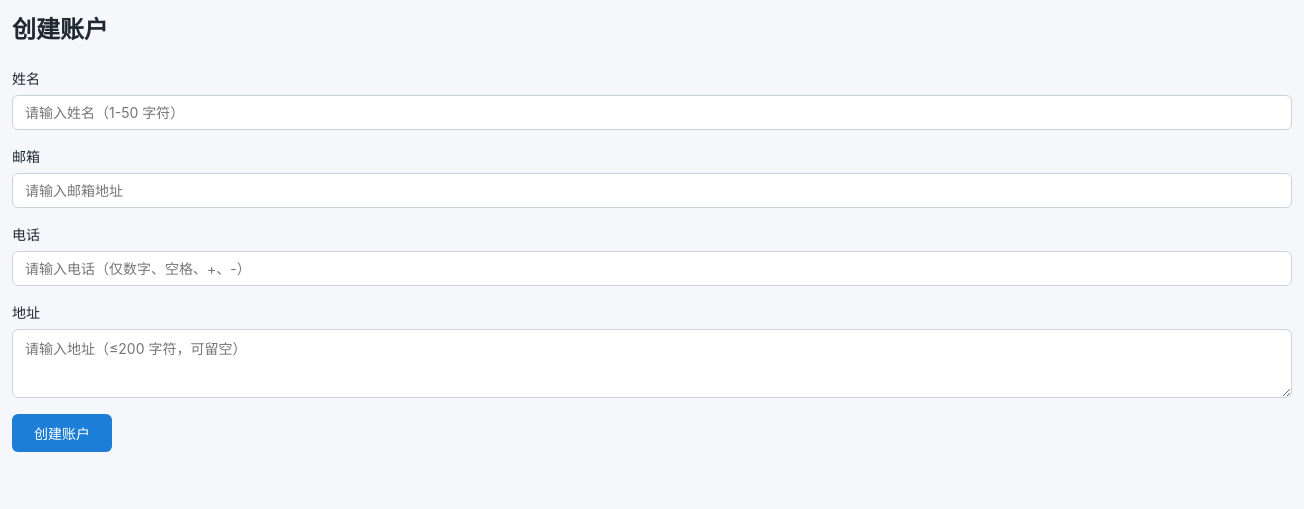
Scenario: CreateAccountForm 创建账户（需求 2.4、2.5、2.10） › 服务端返回 ACCOUNT_LIMIT 时展示上限错误提示（需求 2.5）
The image size is (1304, 509).
Type "赵六" into the field labelled "姓名" at (652, 112), box [12,95,1292,130]
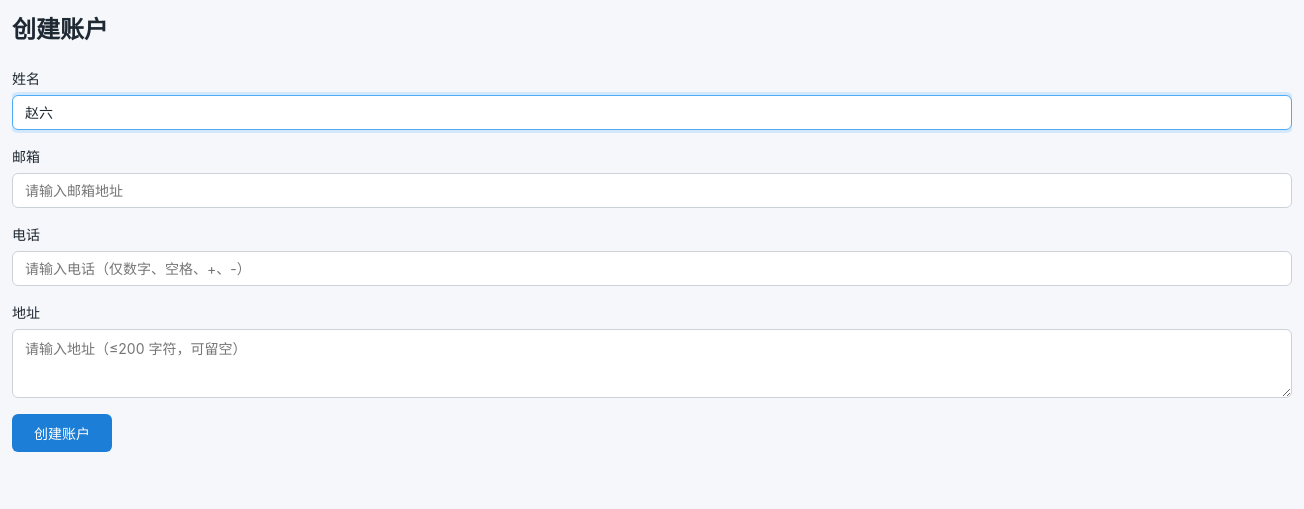
Type "zhaoliu@example.com" into the field labelled "邮箱" at (652, 190), box [12,173,1292,208]
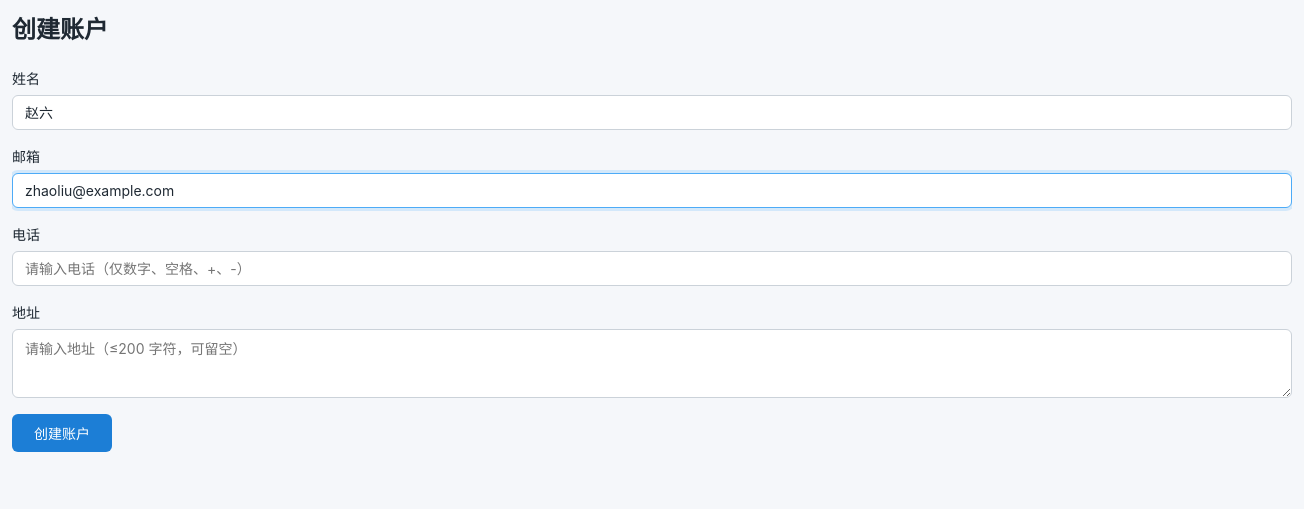
Type "13800138001" into the field labelled "电话" at (652, 268), box [12,251,1292,286]
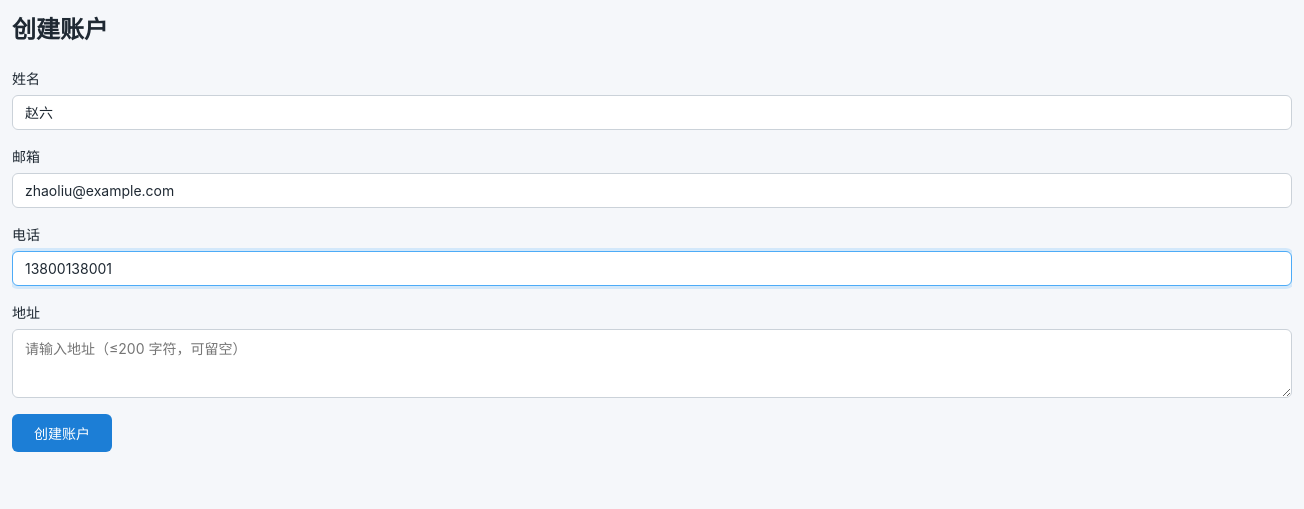
Click the button "创建账户" at (62, 433), box [12,414,112,452]
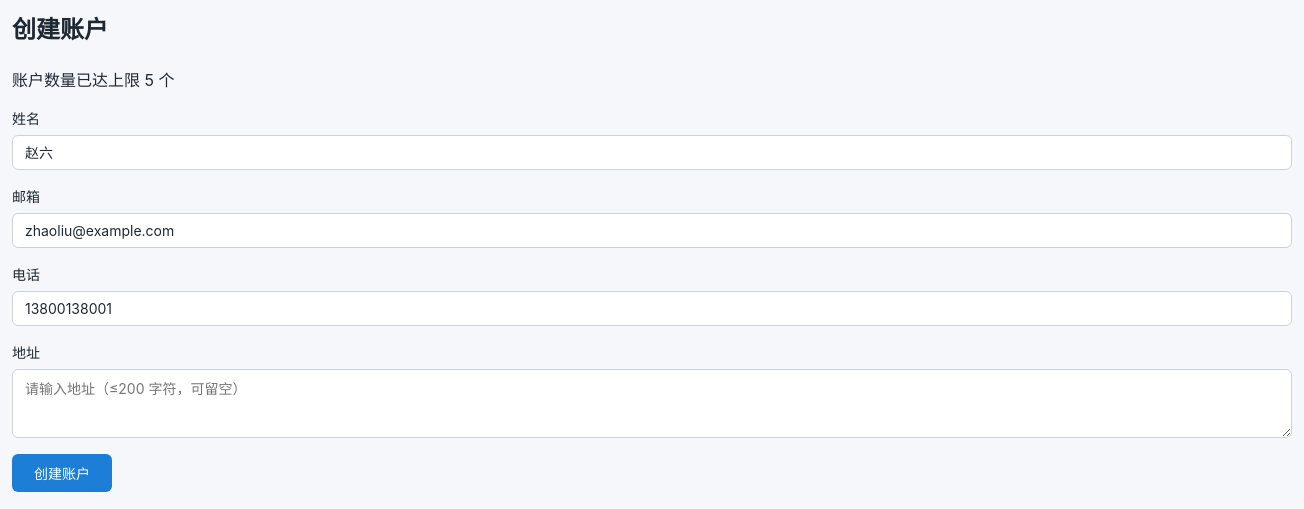
Expected: the text "账户数量已达上限 5 个" is shown, [12,70,174,90]
